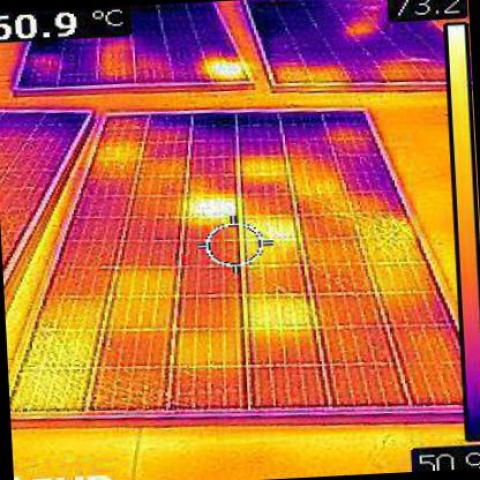fault: (252, 294, 307, 327), (204, 59, 248, 81), (187, 192, 228, 214), (245, 220, 290, 239)
